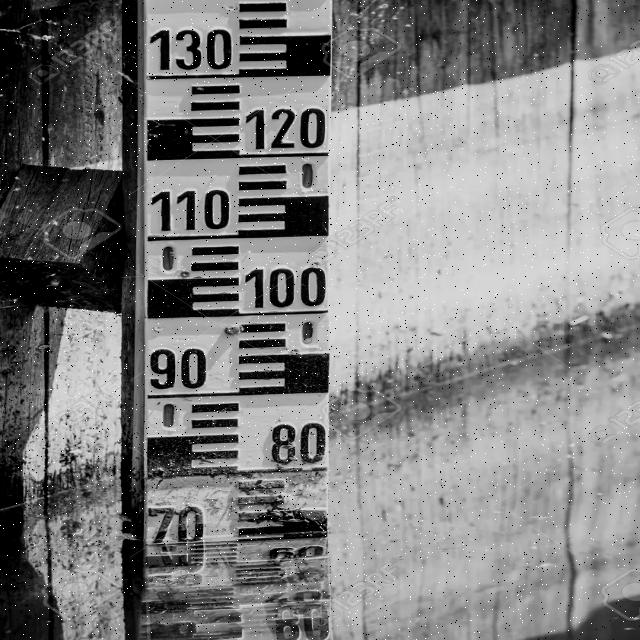10: (178, 188, 235, 234), (248, 262, 302, 308)
20: (271, 105, 330, 153)
30: (175, 24, 233, 72)
70: (147, 503, 210, 542)
80: (263, 417, 330, 467)
90: (151, 344, 210, 389)
staff: (137, 0, 330, 541)
